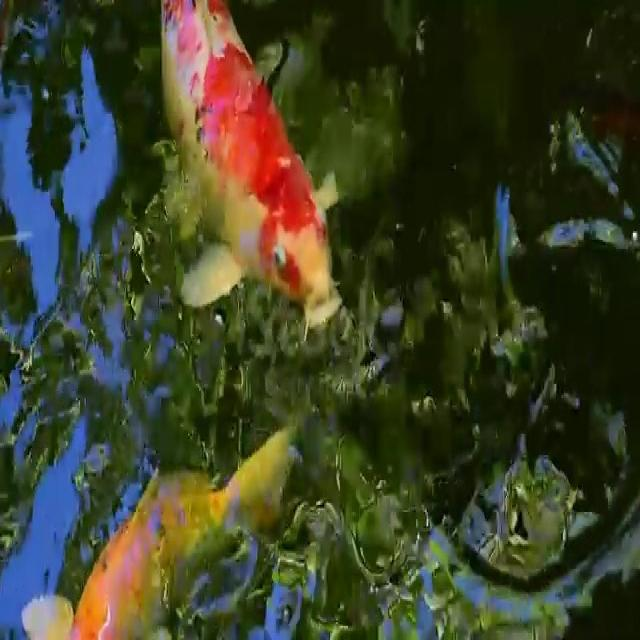fish: (146, 0, 350, 350), (23, 411, 305, 640)
